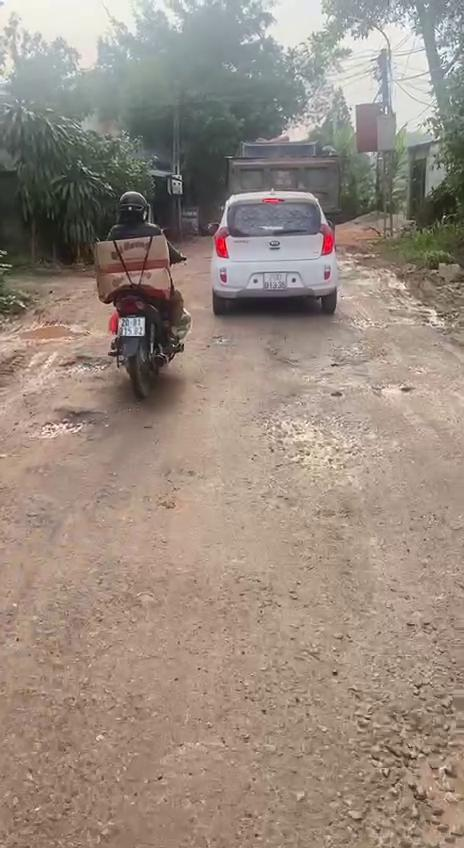pothole: (370, 737, 464, 848), (268, 416, 352, 475), (22, 402, 121, 442), (55, 352, 115, 378)
